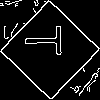T: (25, 25, 71, 56)
